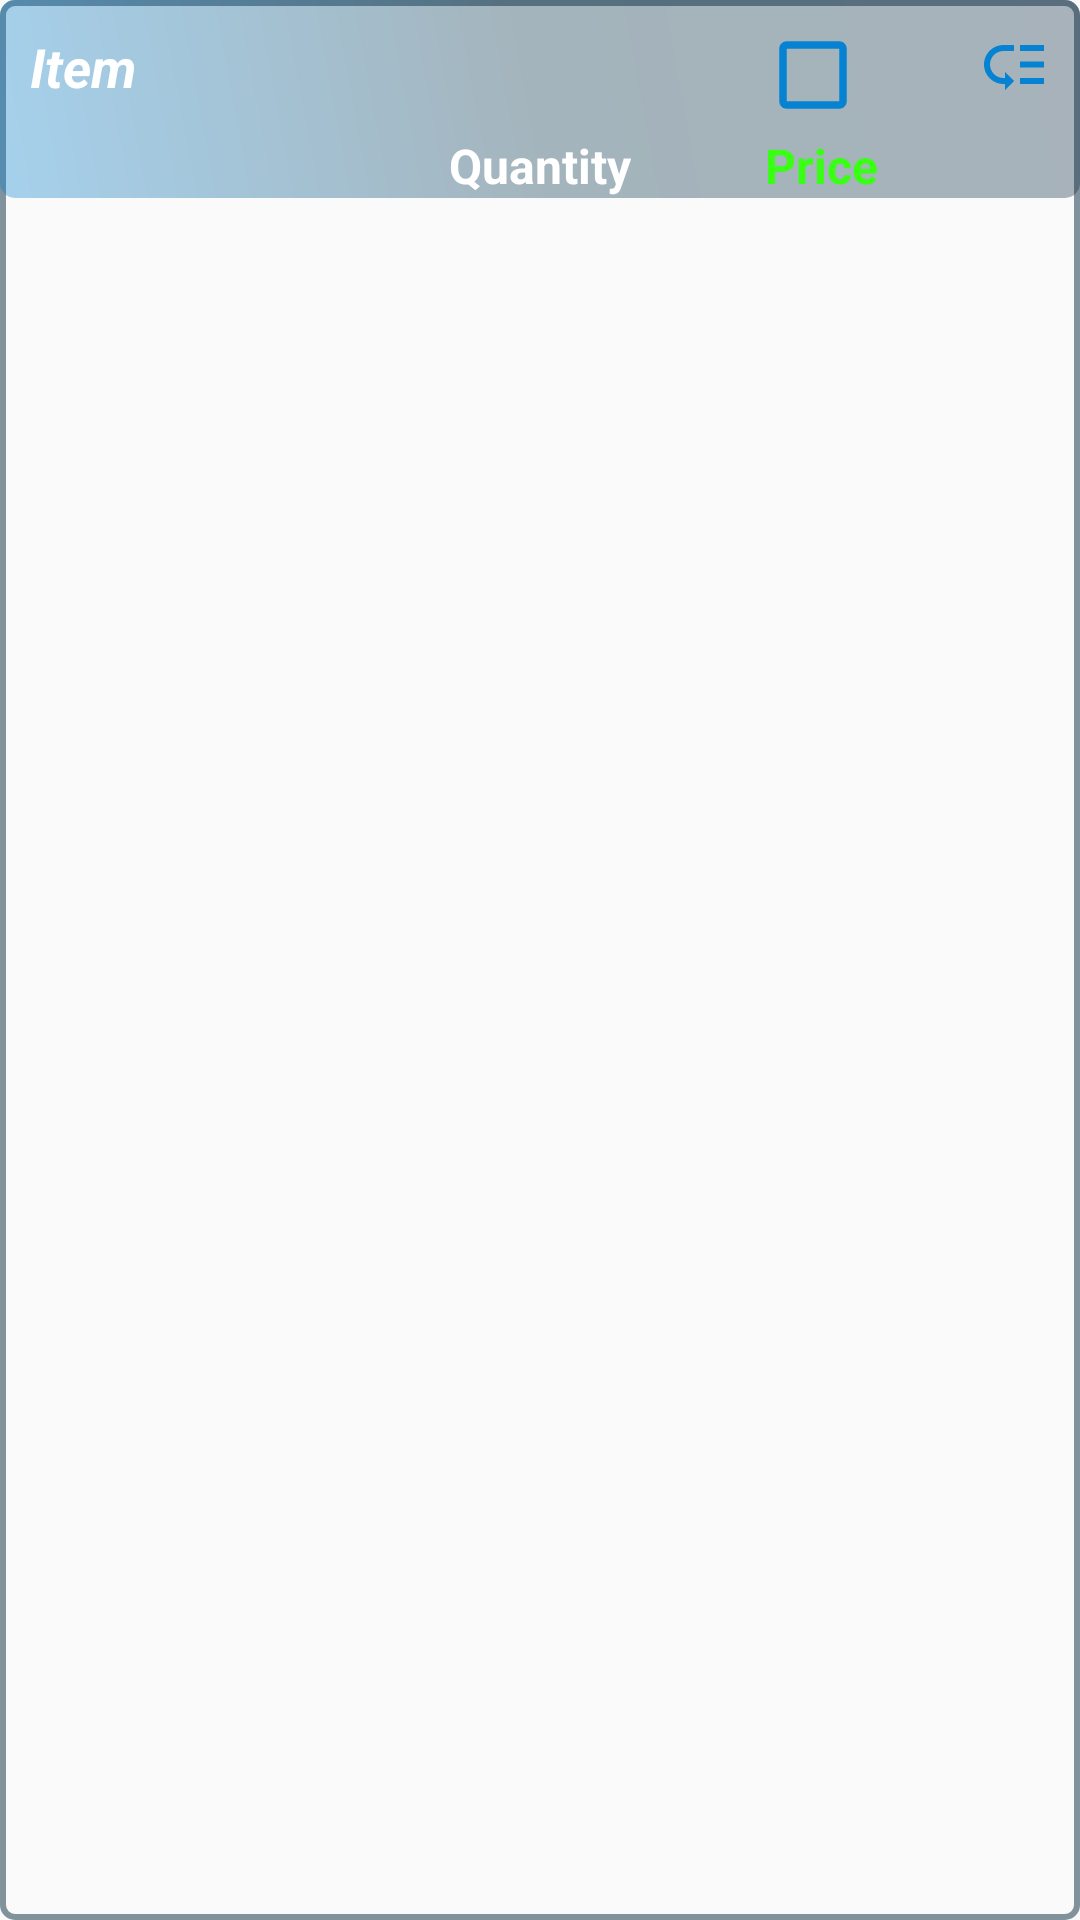

Screen size 1080w x 1920h. Icon name, then its center in pixels as point (x, y):
check box blank: point (813, 75)
